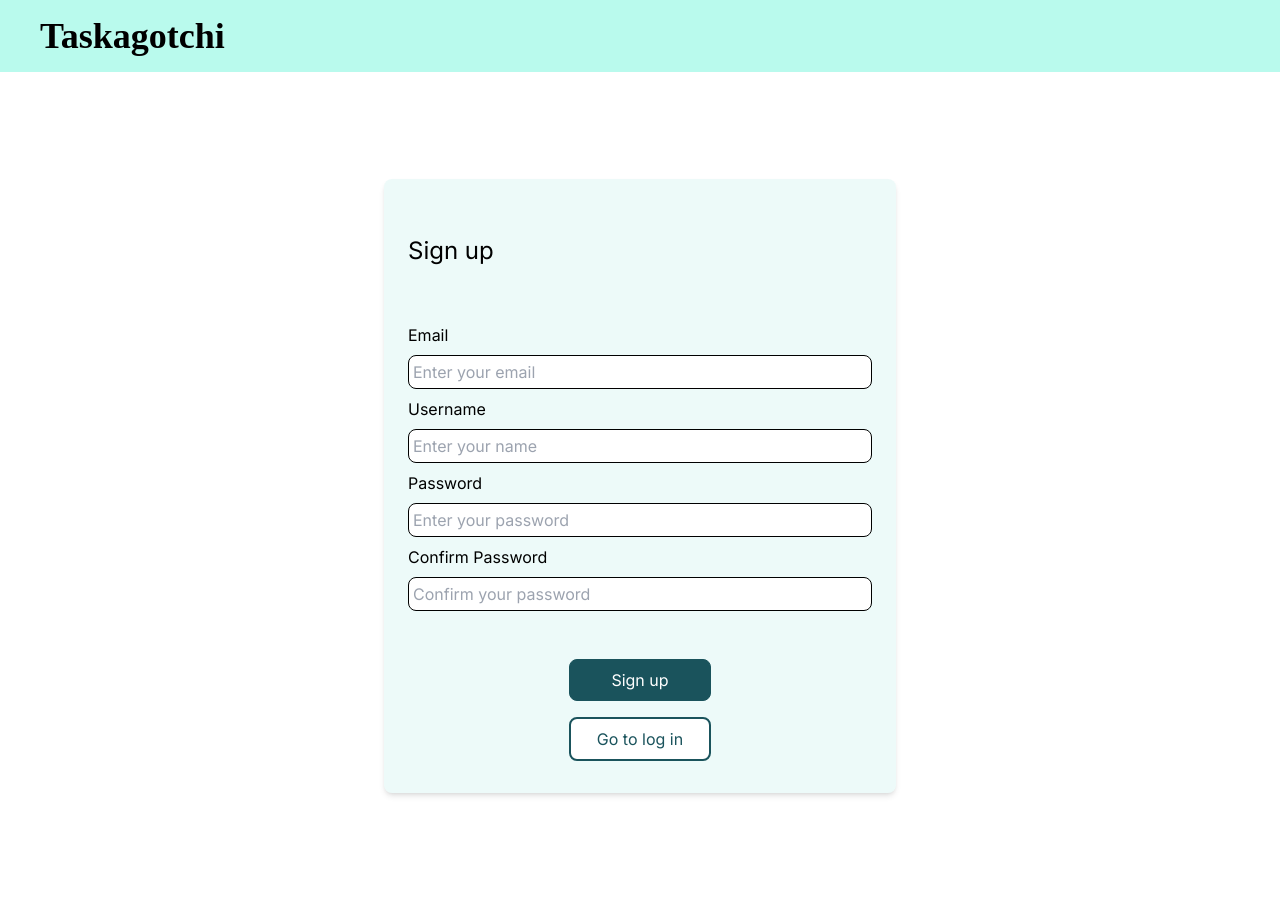
Test case: Signup Component › passwords don't match on submit
In the field with placeholder "Enter your email": (640, 372) [408,355,872,389], type "test@example.com"
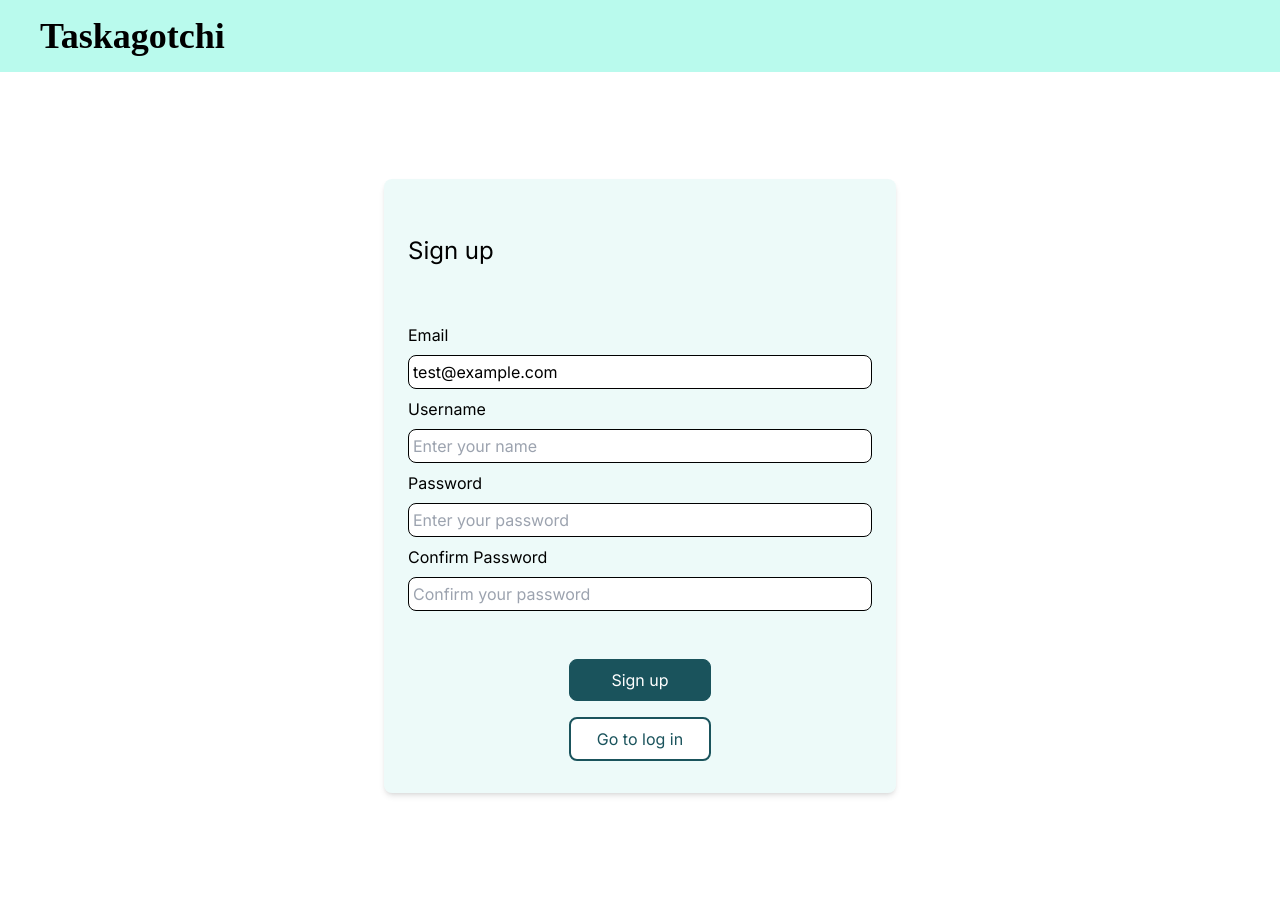
In the field with placeholder "Enter your name": (640, 446) [408,429,872,463], type "test"
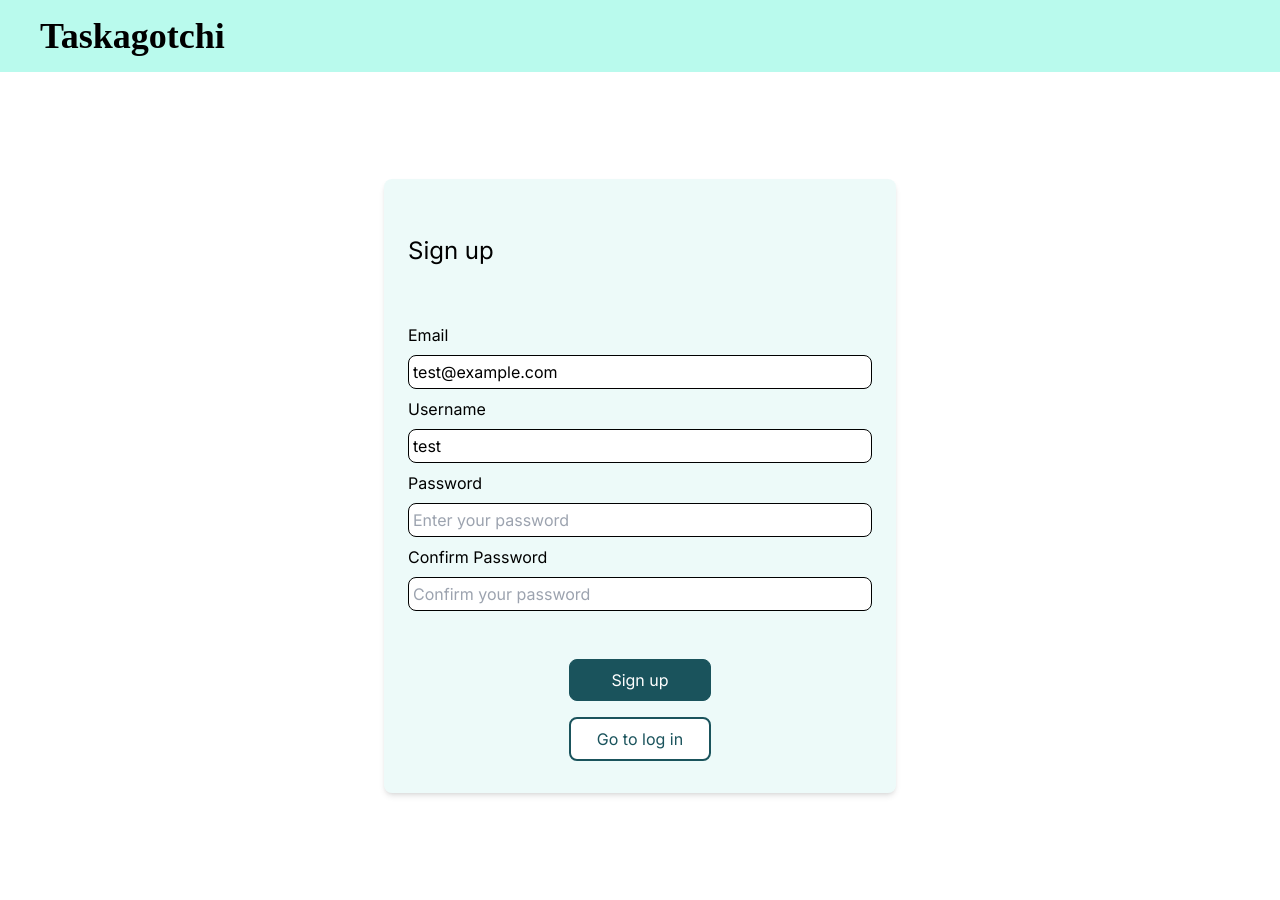
In the password field with placeholder "Enter your password": (640, 520) [408,503,872,537], type "password123"
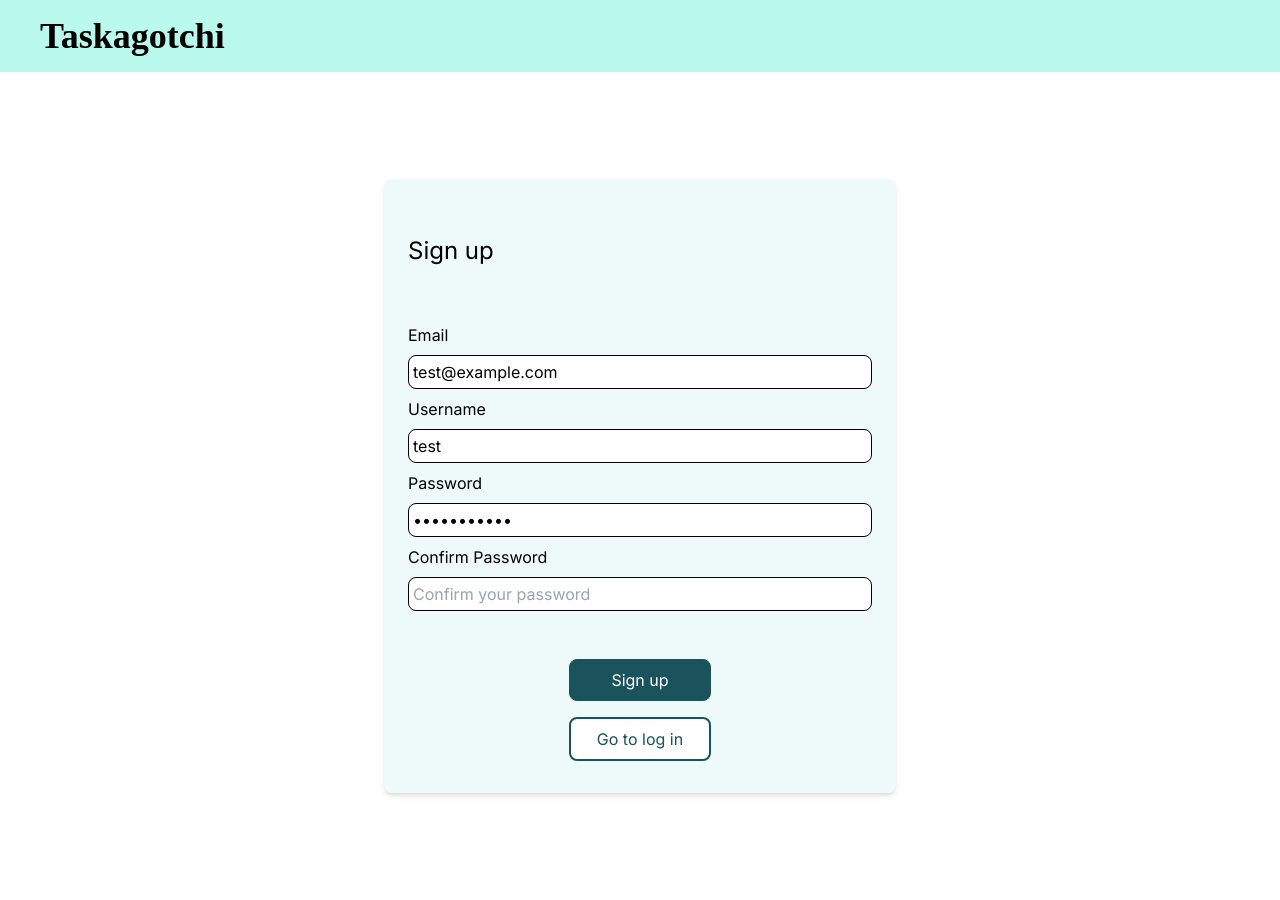
In the password field with placeholder "Confirm your password": (640, 594) [408,577,872,611], type "password456"
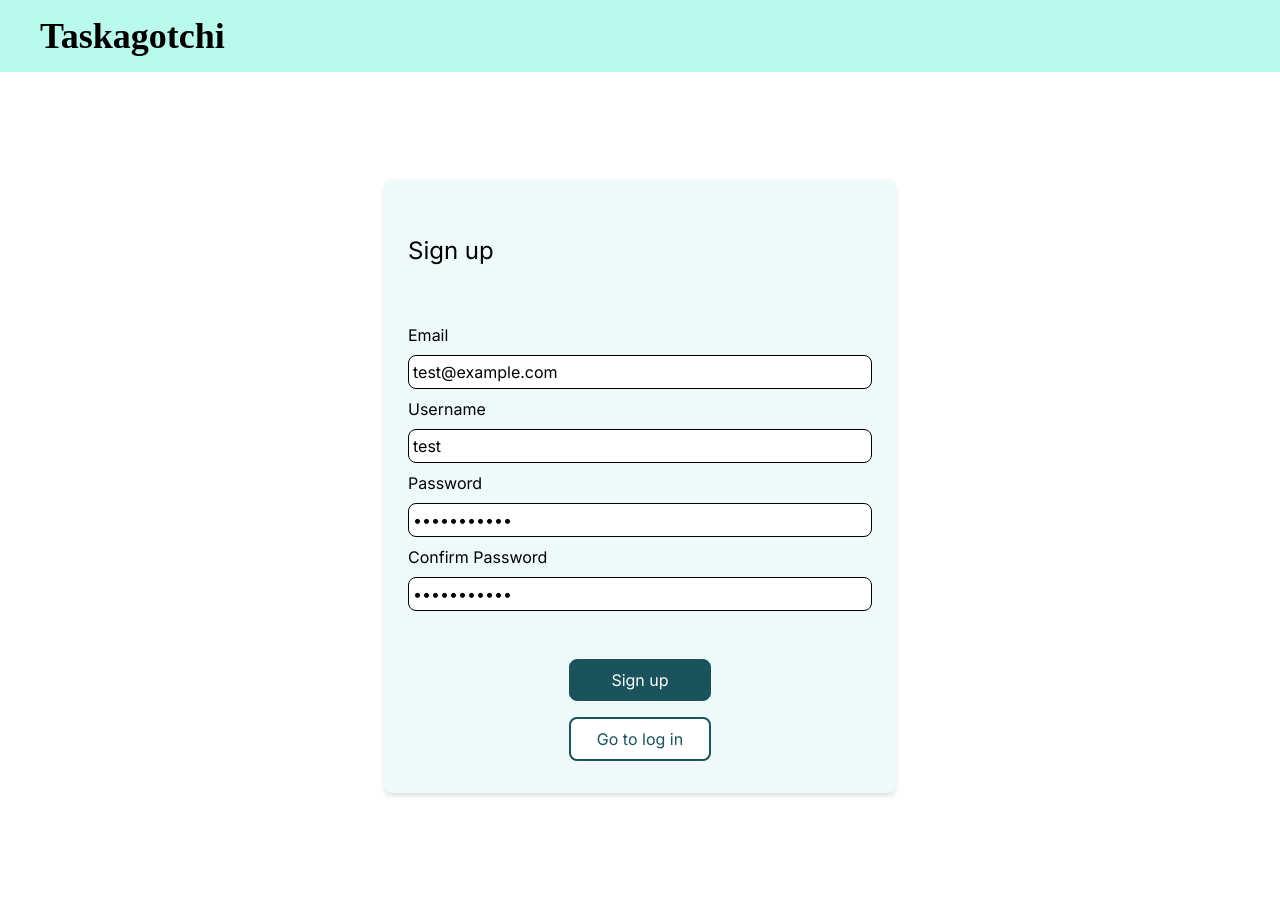
Click the button "Sign up": (640, 680) [569,659,711,701]
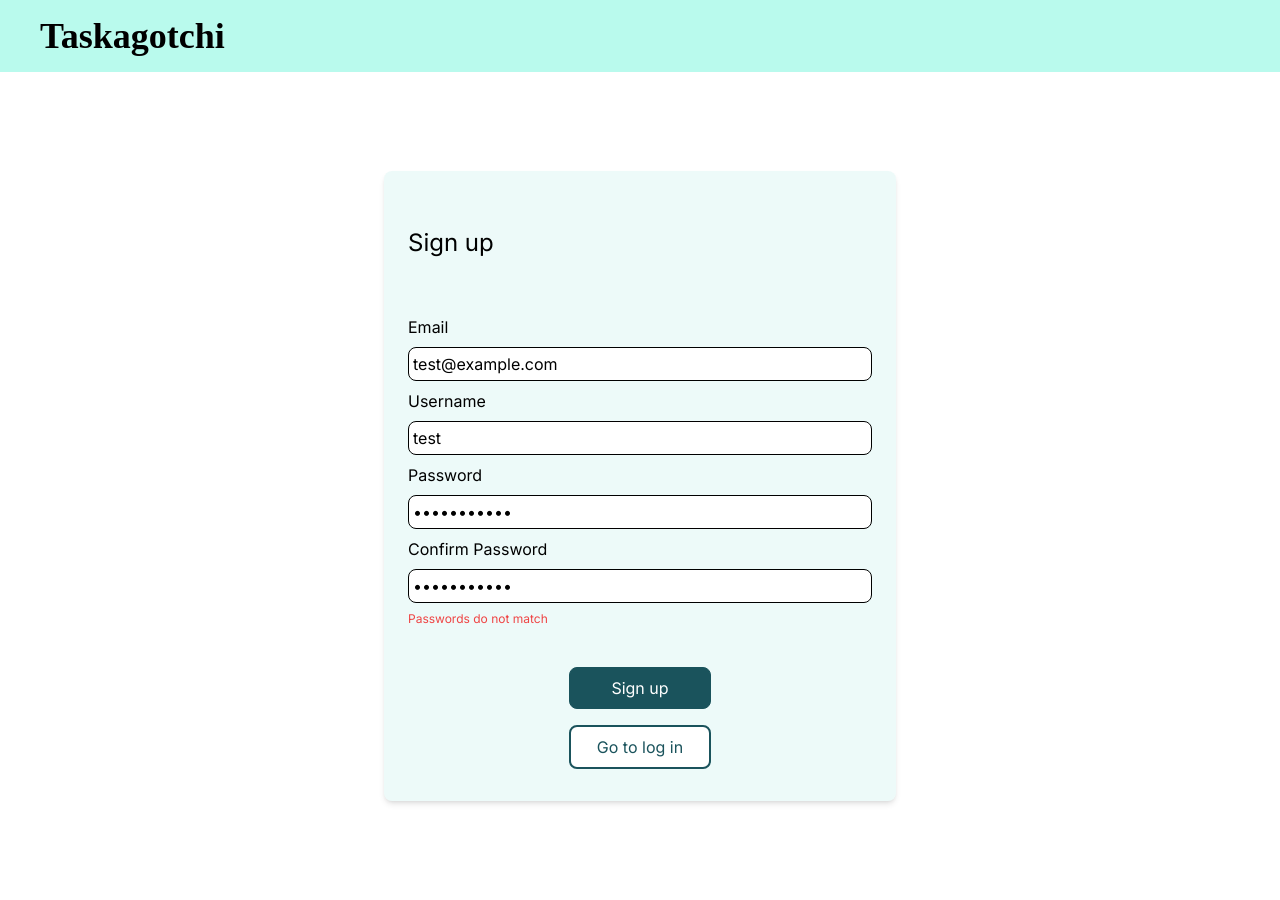
Now the text "Passwords do not match" is shown, box [408,611,548,626]
